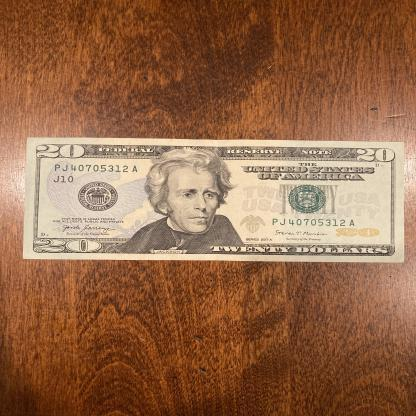dollar_front: (23, 138, 405, 264)
